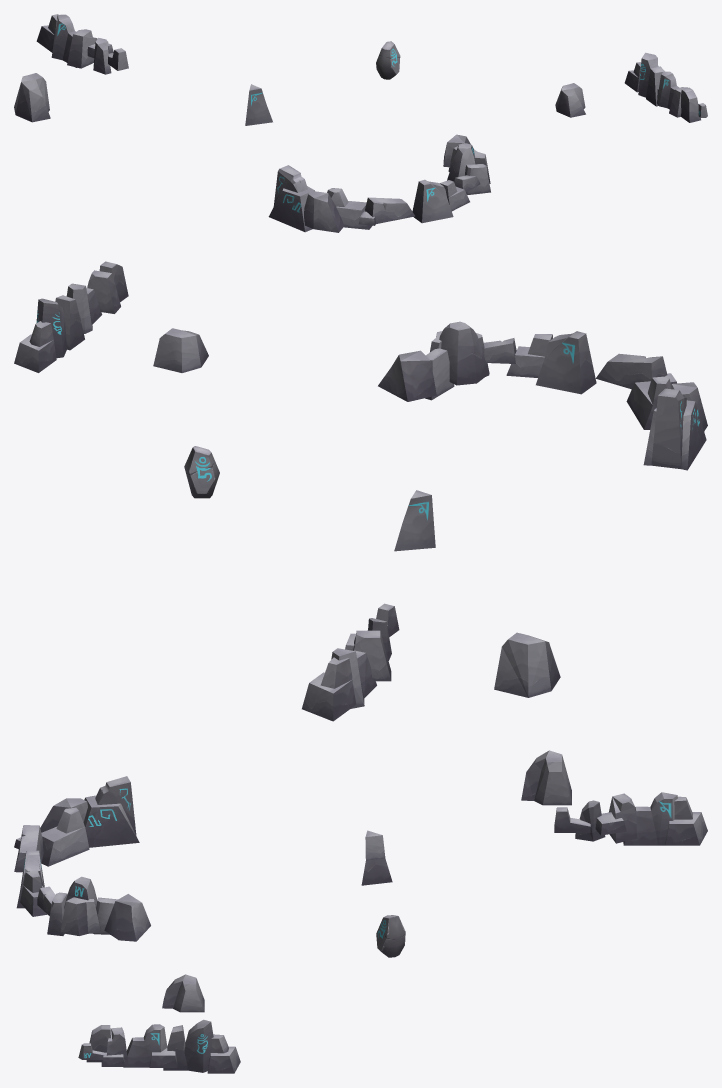
The model's file is shidui_ceshi.FBX.
3 renders of one model, top to bottom at view 1: azimuth 30°, elevation 25°; view 2: azimuth 150°, elevation 25°; view 3: azimuth 270°, elevation 25°, orthographic. The views are drawn at different scales.
Parts seen in each view (by area): view 1: shidui; view 2: shidui; view 3: shidui.
Boxes of the visible parts, left/top/right/bottom form: shidui: left=14, top=14, right=707, bottom=232; shidui: left=14, top=261, right=707, bottom=721; shidui: left=14, top=750, right=707, bottom=1073.
Size of the model in its own units: 2693 by 269 by 2649.
